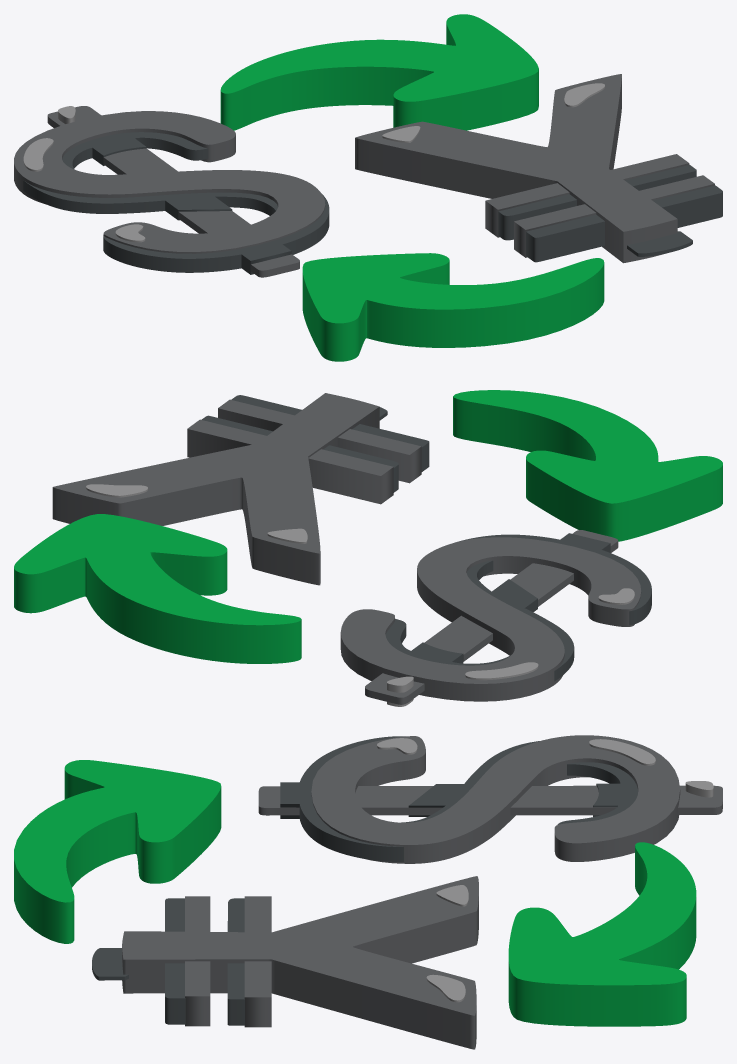
File: emoji_u1f4b1.glb
3 renders of one model, top to bottom at view 1: azimuth 30°, elevation 25°; view 2: azimuth 150°, elevation 25°; view 3: azimuth 270°, elevation 25°, orthographic. The views are drawn at different scales.
Parts seen in each view (by area): view 1: emoji_u1f4b1; view 2: emoji_u1f4b1; view 3: emoji_u1f4b1.
Part boxes in pixels (left/top/right/bottom): emoji_u1f4b1: left=14, top=14, right=722, bottom=361; emoji_u1f4b1: left=14, top=390, right=722, bottom=706; emoji_u1f4b1: left=14, top=735, right=722, bottom=1049.
Size of the model in its own units: 0.0329 by 0.0022 by 0.0341.
